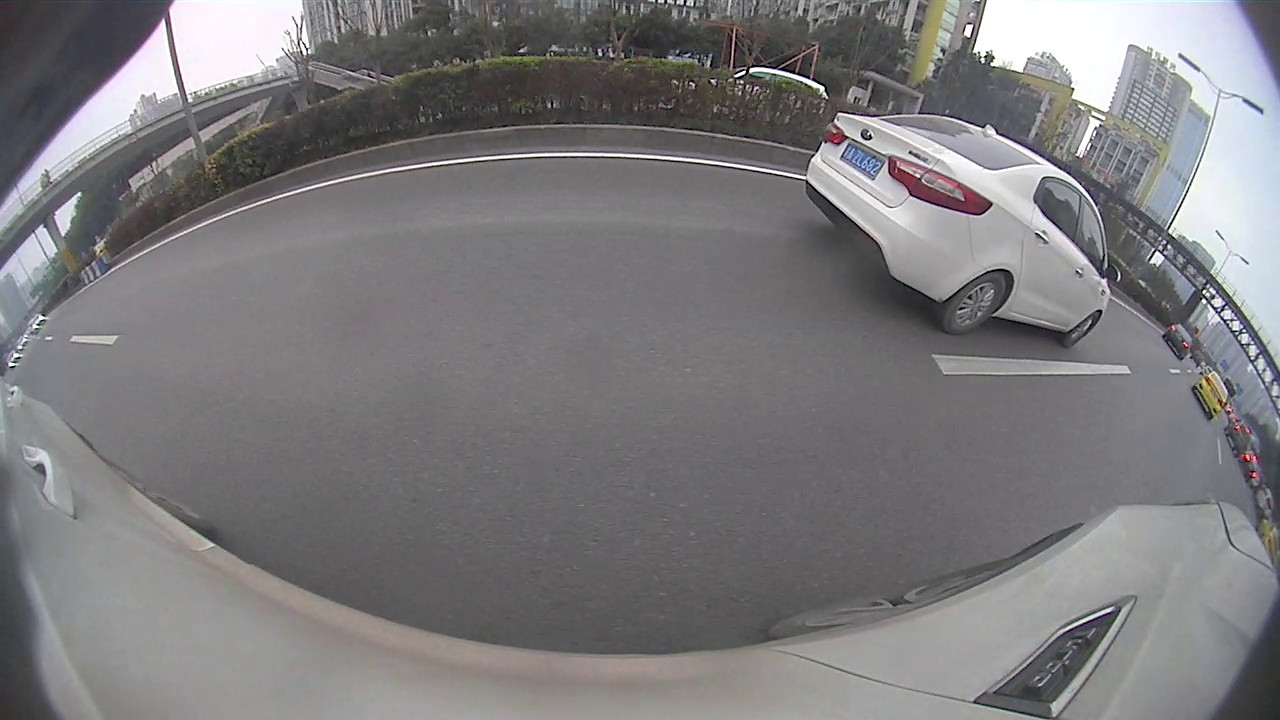car: (804, 109, 1123, 350), (1188, 368, 1233, 422), (1162, 319, 1194, 362)
front: (1055, 310, 1100, 351)
rear: (933, 267, 1007, 337)
